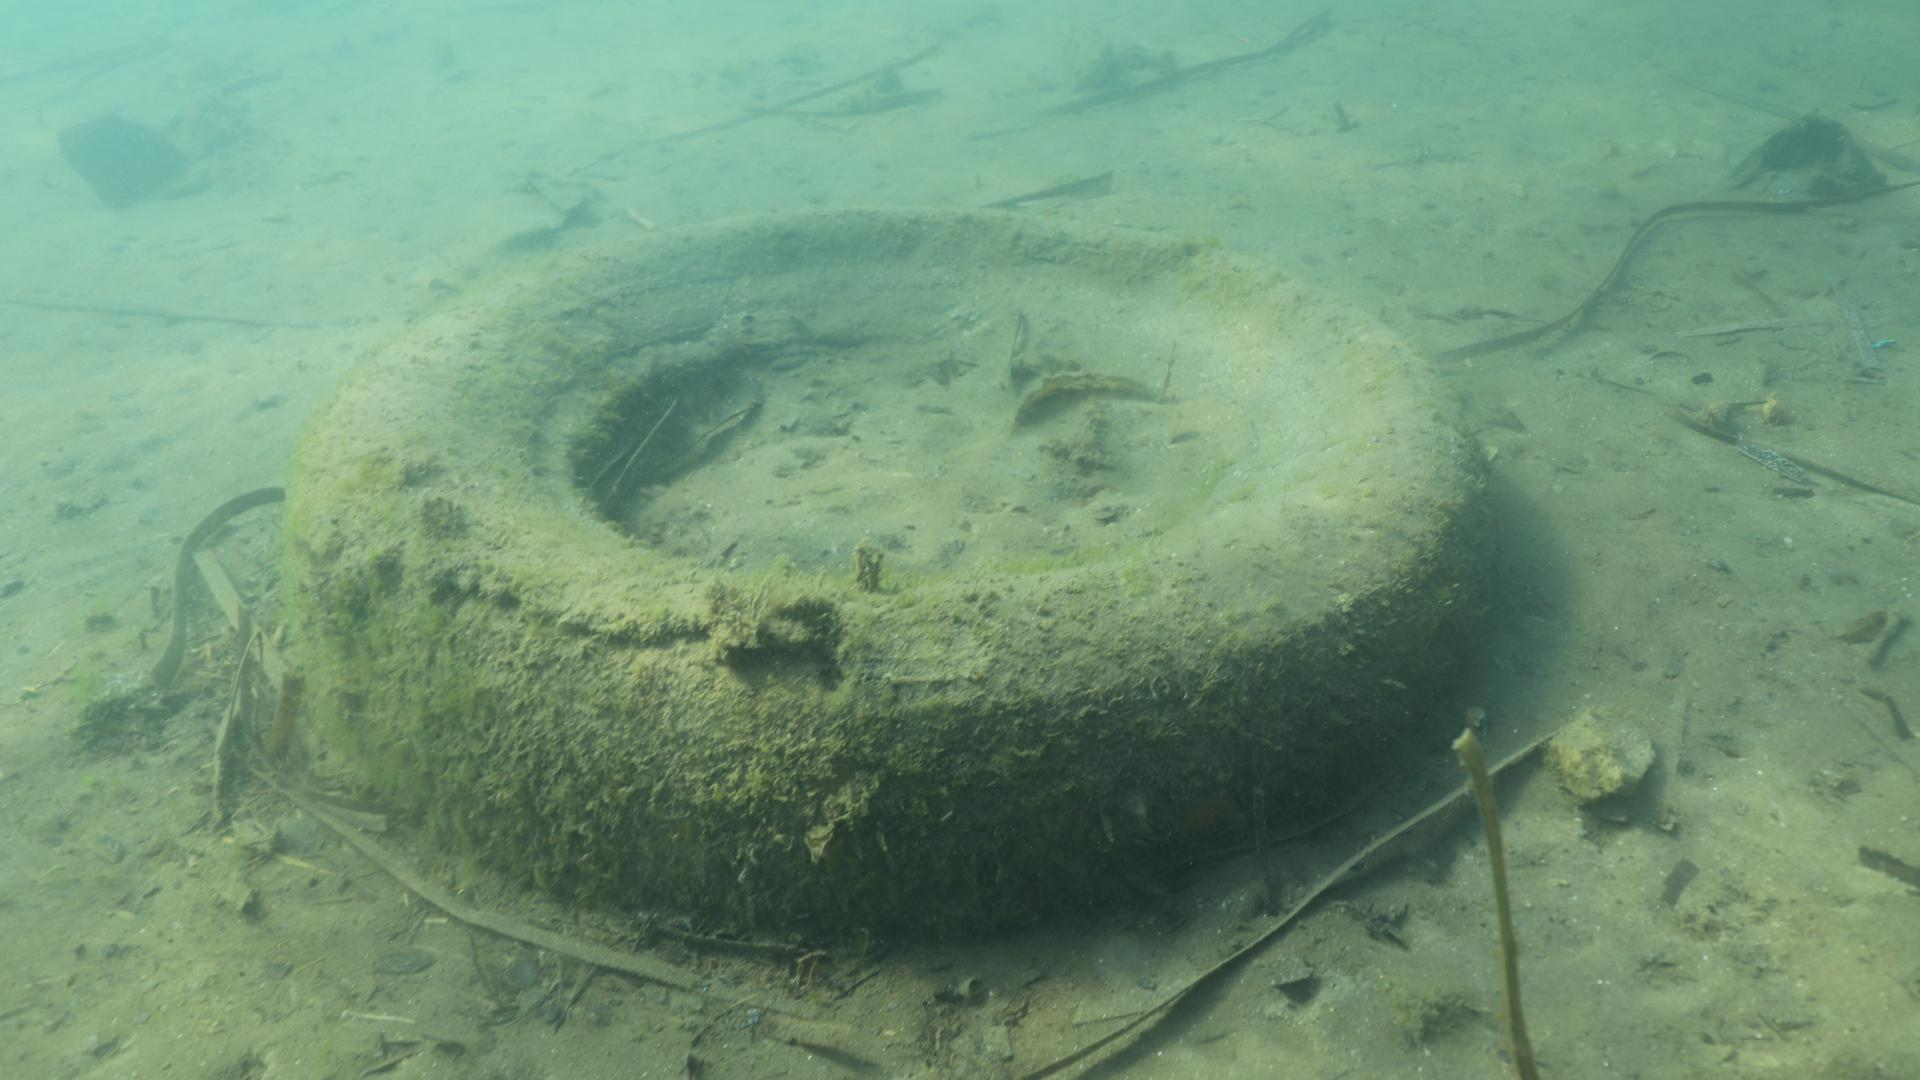tire: (278, 207, 1494, 909)
